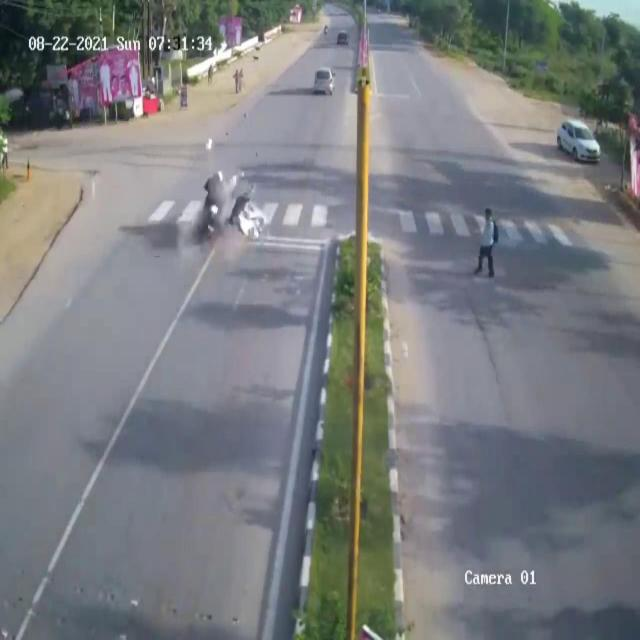accident: (186, 150, 270, 270)
